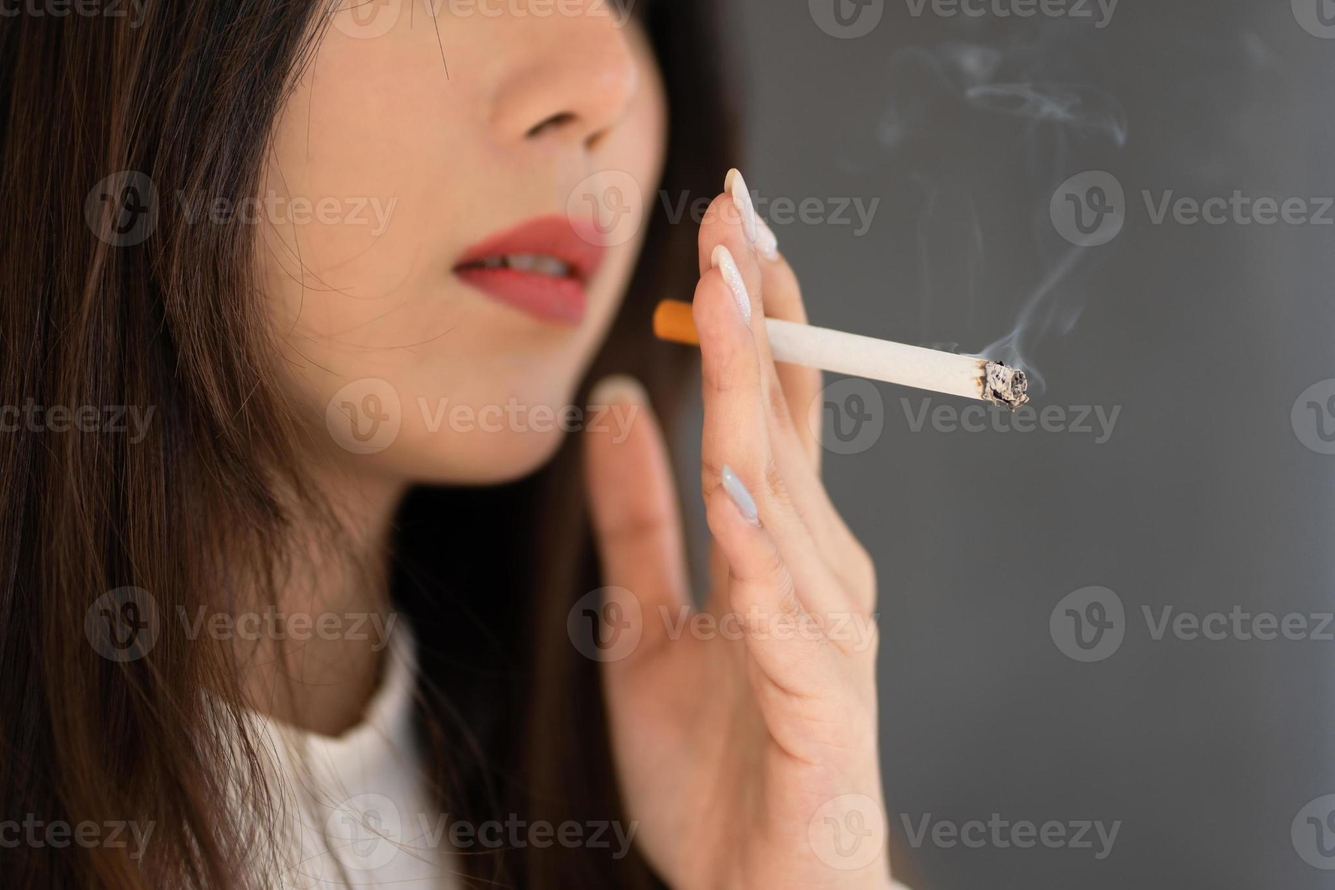cigarette: (766, 318, 1028, 410)
